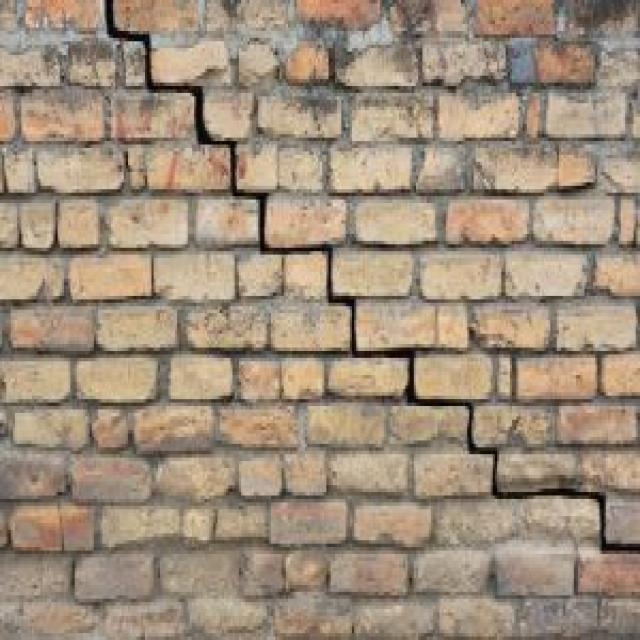Crack: (102, 0, 638, 551)
